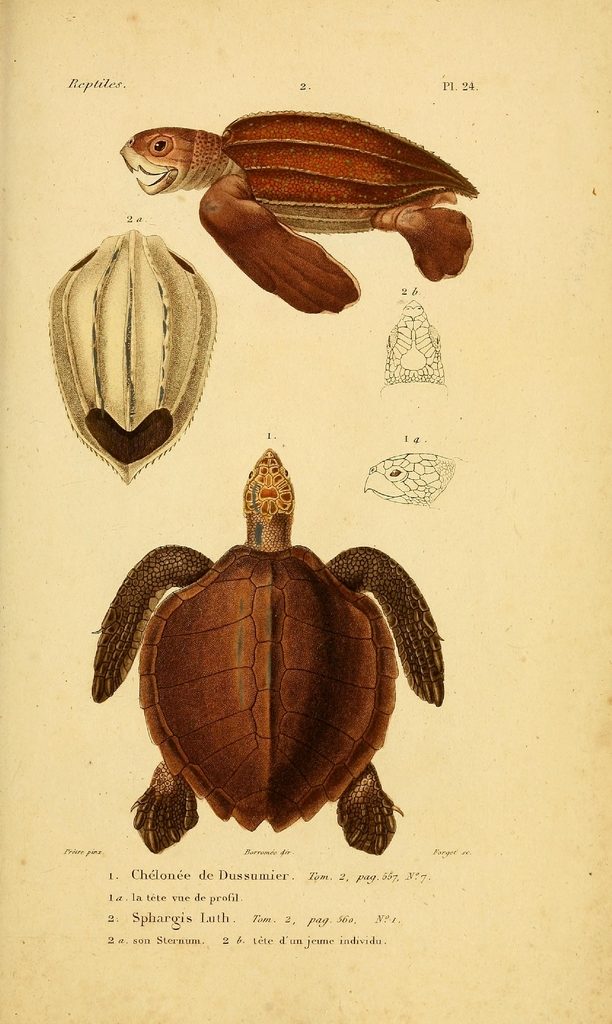Sea turtles: (89, 441, 447, 854), (108, 101, 483, 323)
